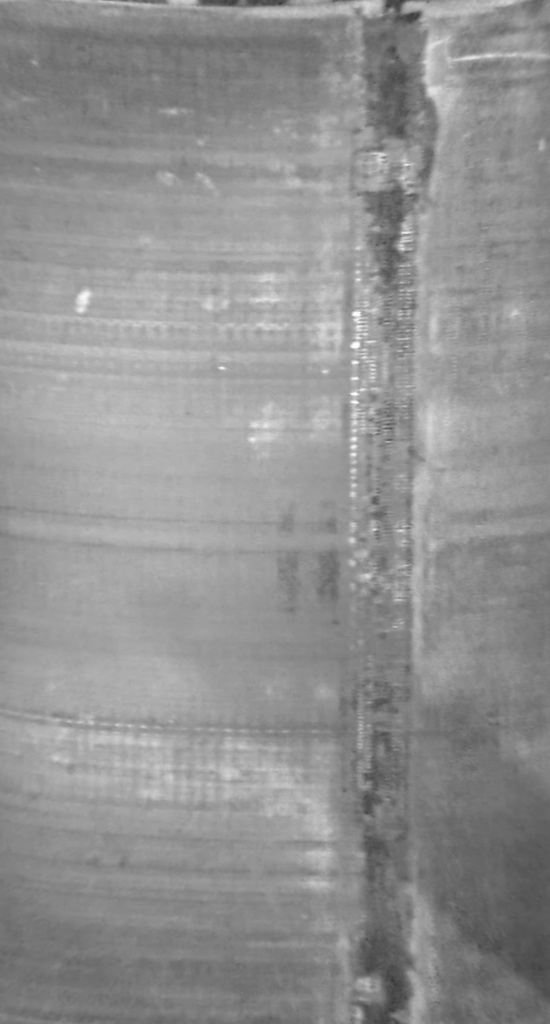splice: (340, 2, 437, 1024)
